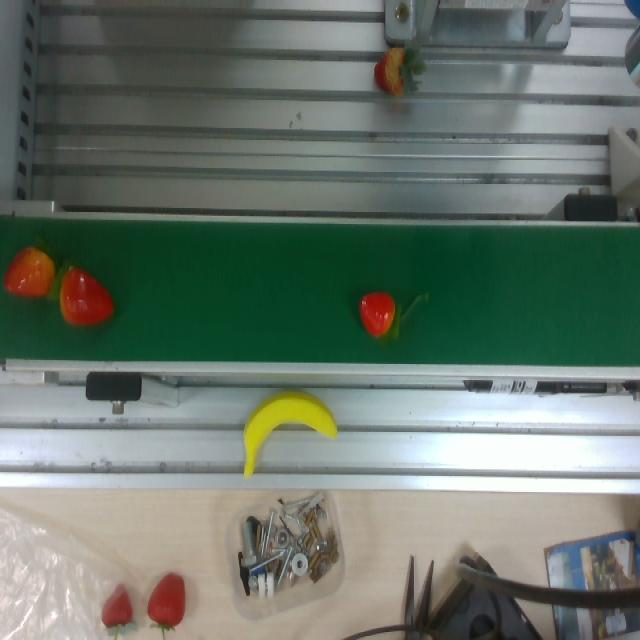Large Ripe Strawberry: (145, 568, 187, 633)
Small Ripe Strawberry: (349, 291, 426, 347)
Small Unripe Strawberry: (56, 260, 123, 326), (10, 240, 56, 307)
conveyor: (1, 215, 640, 382)
